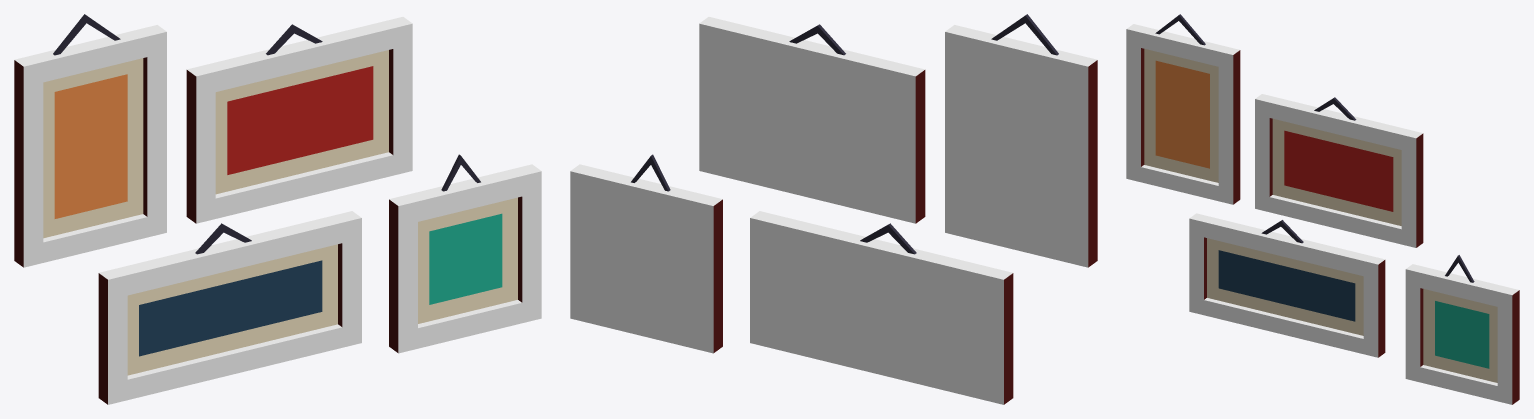
Rendered from frames02.fbx.
3 renders of one model, left to right at view 1: azimuth 30°, elevation 25°; view 2: azimuth 150°, elevation 25°; view 3: azimuth 330°, elevation 25°, orthographic. The views are drawn at different scales.
Visible parts, largest first — view 1: frames02; view 2: frames02; view 3: frames02.
Part boxes in pixels (x1,y1,x2,y2): frames02: (14,14,541,404); frames02: (570,14,1097,404); frames02: (1126,14,1519,404).
Size of the model in its own units: 8.28 by 6.27 by 0.2641.
